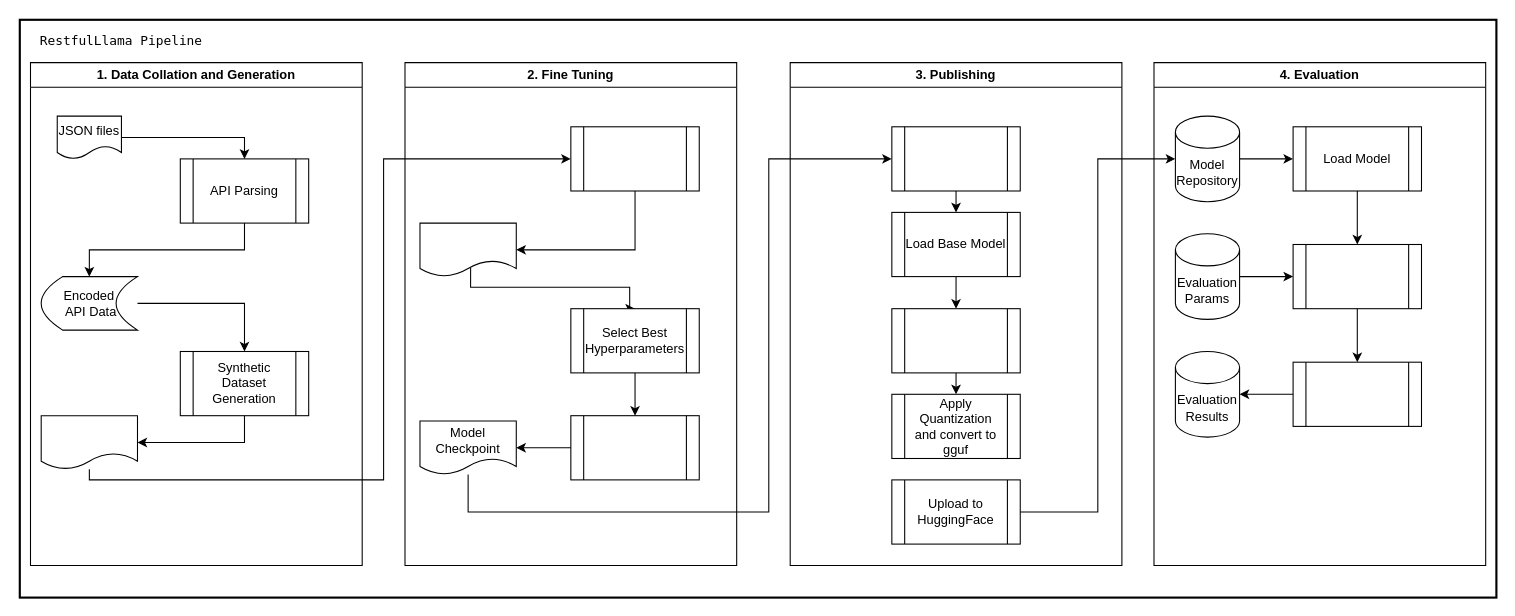
The diagram is 1515 pixels wide and 616 high, and some of its shapes have lost their labels. Each missing label, with the centre of its shape:
Collect Results: [1356,393]
Conversational Dataset .jsonl: [88,442]
Evaluate Model: [1356,276]
LLM Fine-Tuning: [634,447]
LLM Fine-Tuning Hyperparameter Search: [634,158]
Load Model Checkpoints: [955,158]
Merge Model: [955,340]
Model Checkpoints: [467,249]
